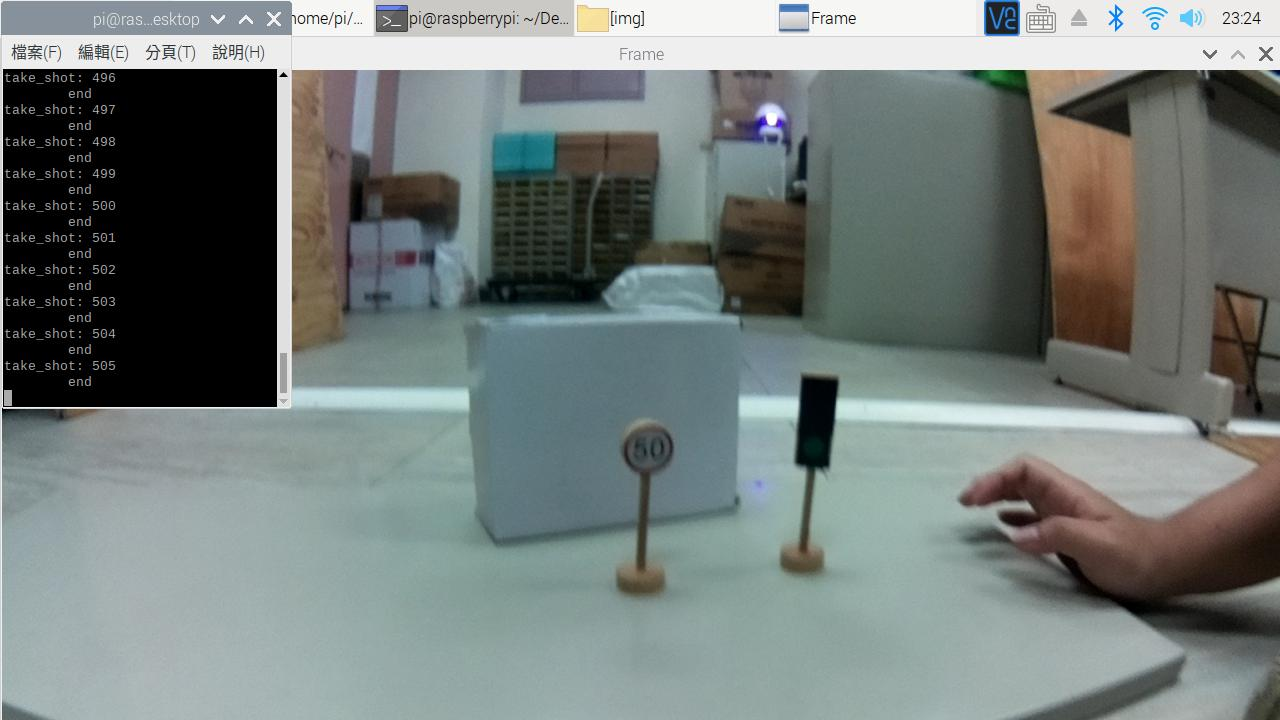Green: (781, 369, 848, 479)
Speed50: (613, 417, 686, 482)
